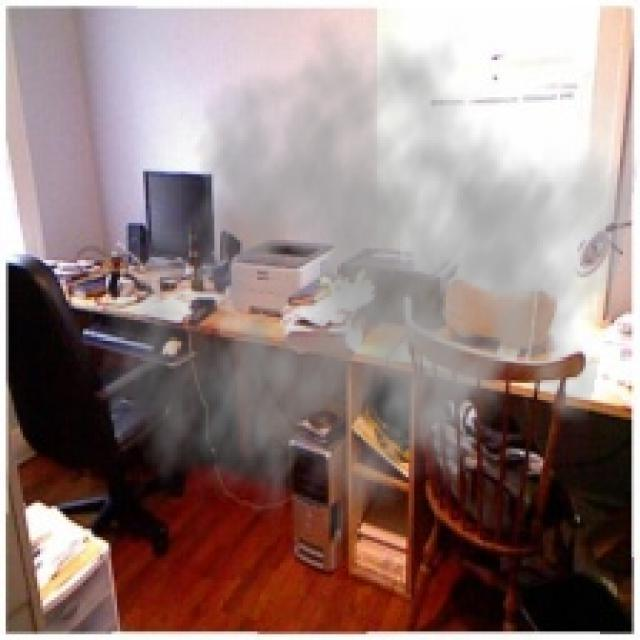Smoke: (97, 14, 637, 572)
